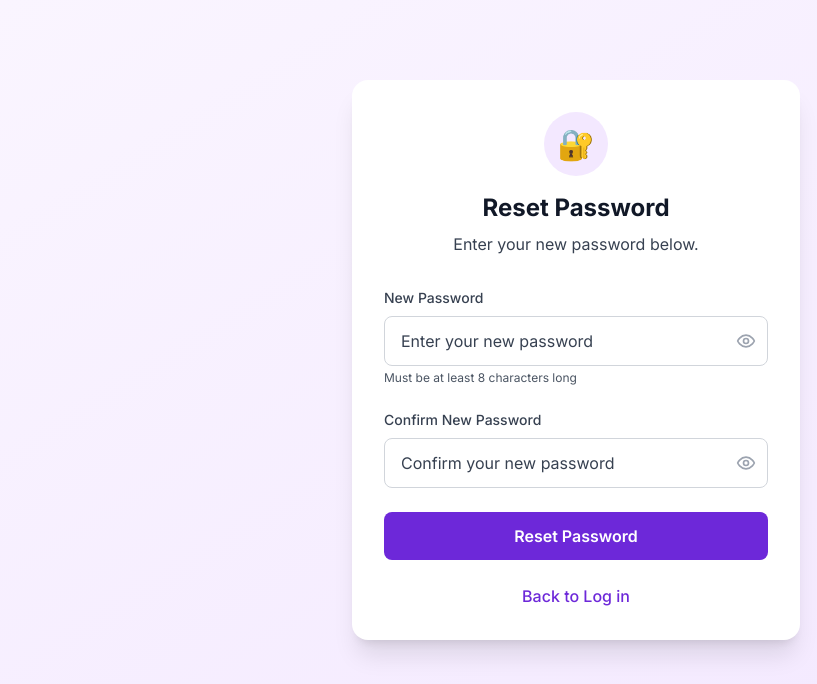
it: Reset Password Validation › correcting confirm password clears confirmPasswordError on typing
This screenshot has width=817, height=684.
In the password field labelled "New Password": {"x": 576, "y": 341} [384, 316, 768, 366], type "password123"
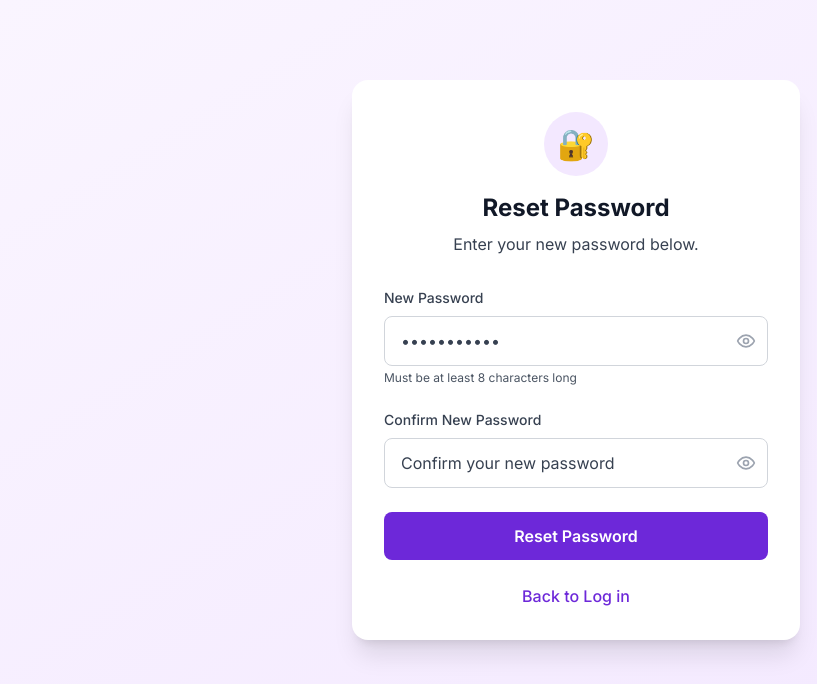
In the password field labelled "Confirm New Password": {"x": 576, "y": 463} [384, 438, 768, 488], type "mismatch"
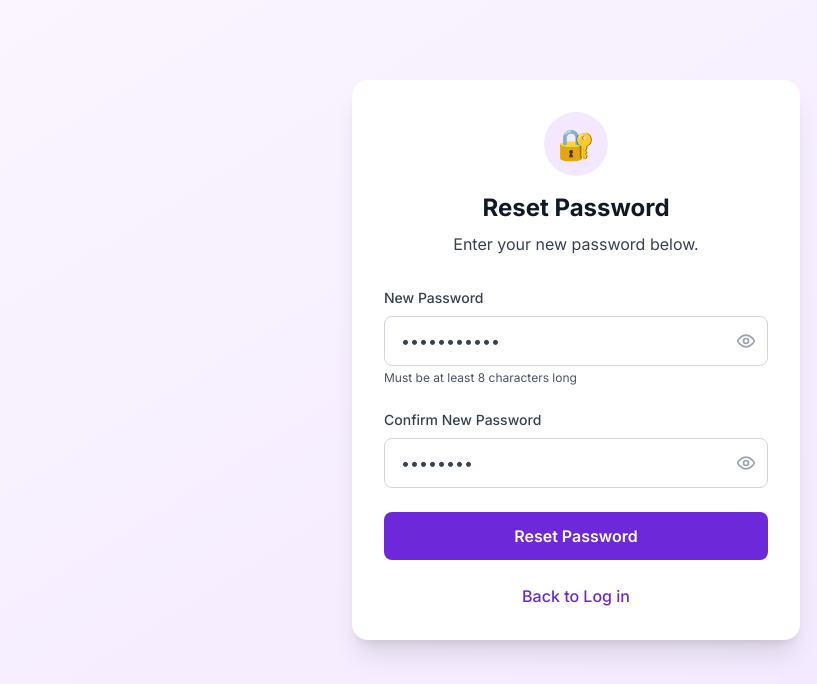
Leave the password field labelled "Confirm New Password", box [384, 438, 768, 488]
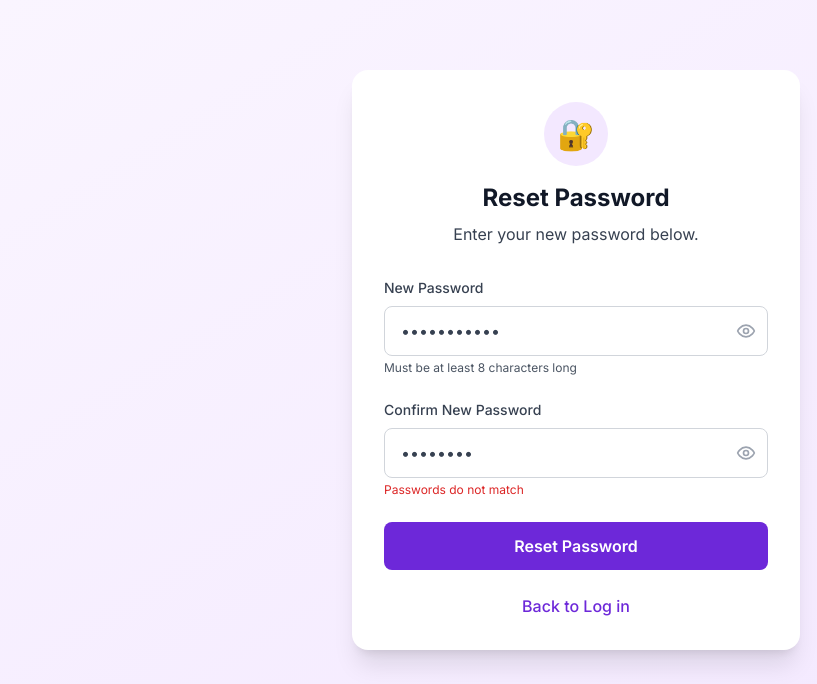
Result: the text "Passwords do not match" is shown at [384, 482, 524, 497]
In the password field labelled "Confirm New Password": {"x": 576, "y": 453} [384, 428, 768, 478], type "password123"
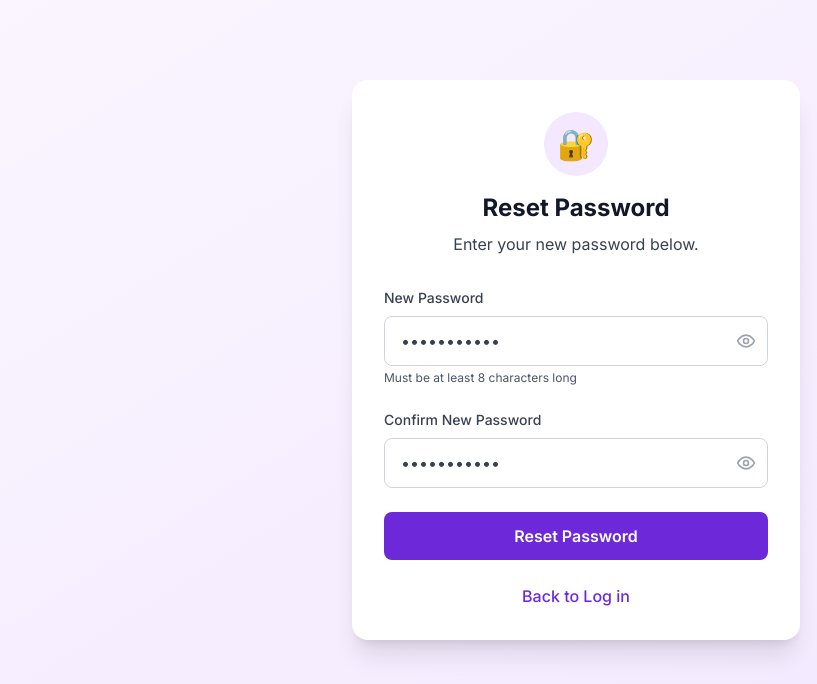
Result: the text "Passwords do not match" is gone
